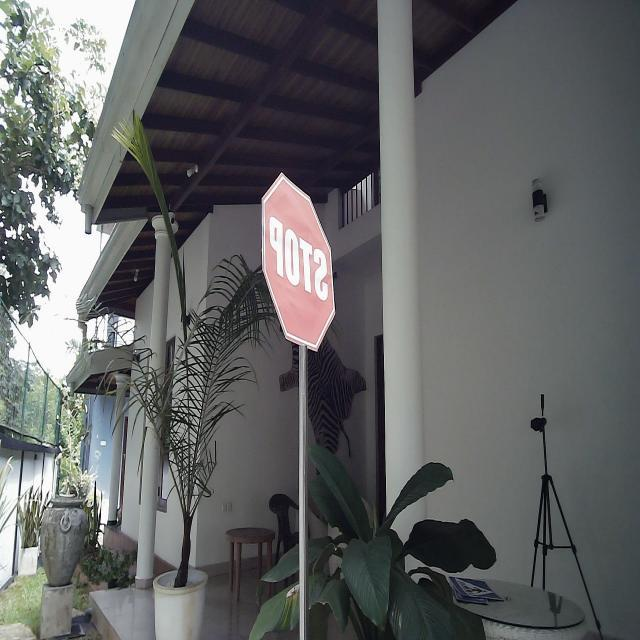stop: (260, 169, 338, 354)
